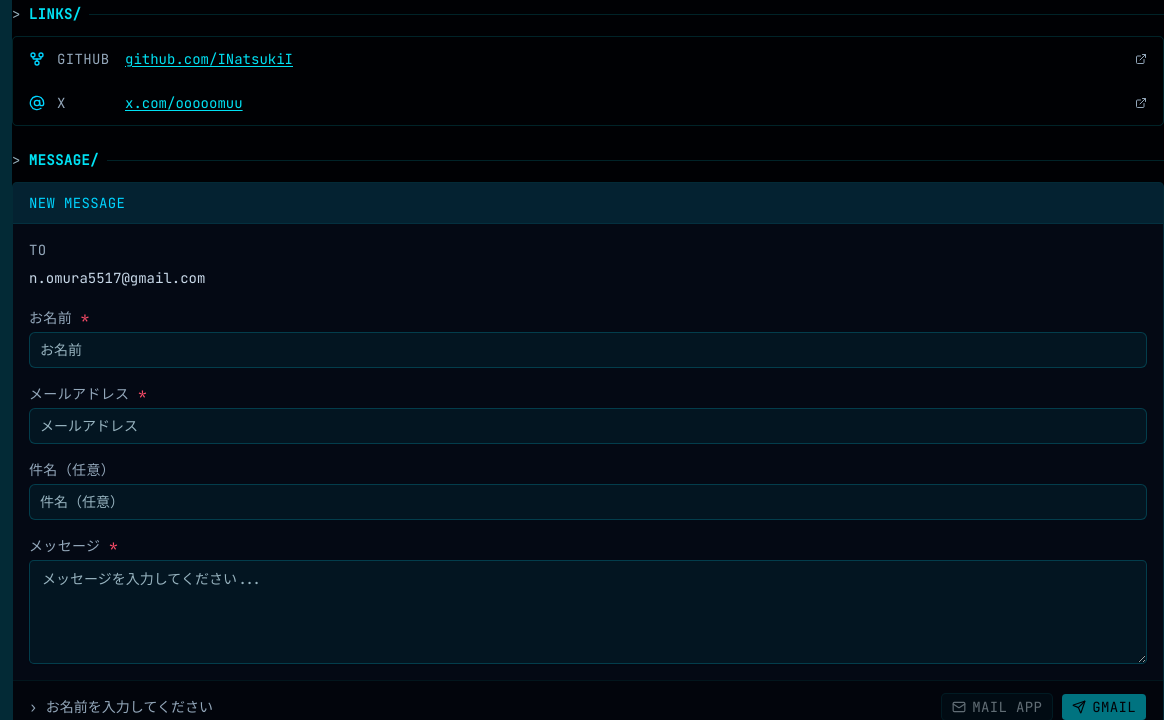
it: WinContact › 送信後のフィードバック › GMAIL 押下でポップアップがブロックされた場合エラーメッセージが表示される
Type "Taro" into the field with placeholder "お名前" at x=588, y=350, box [29, 332, 1147, 368]
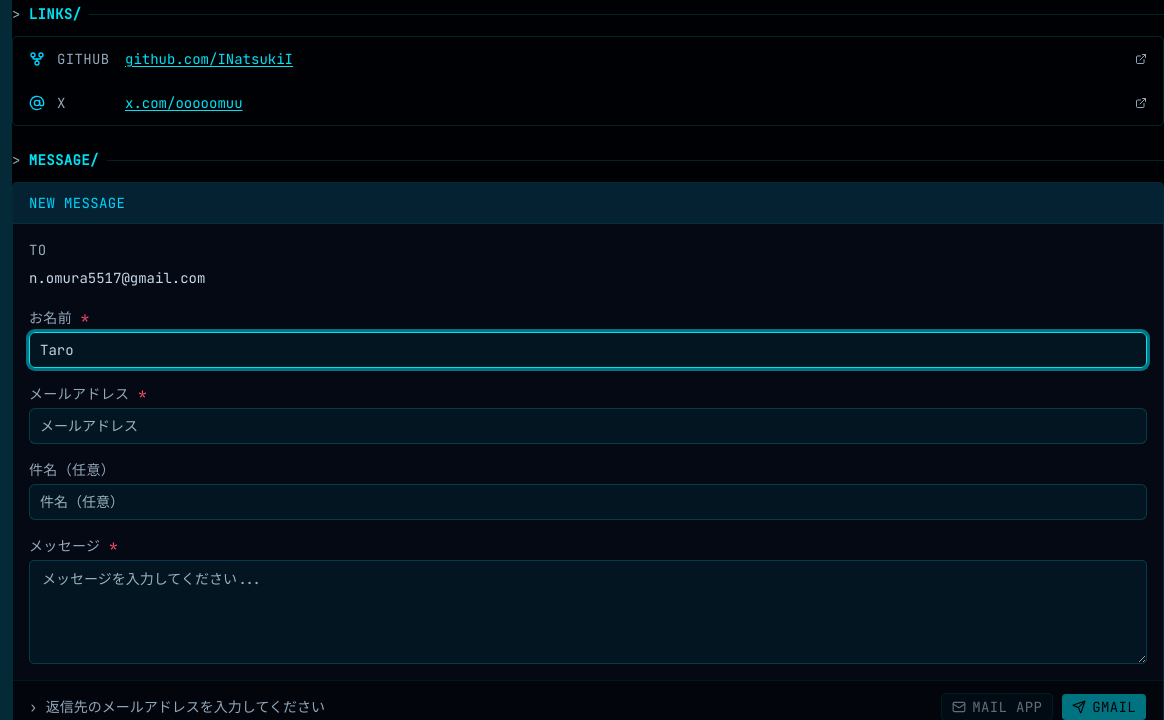
Type "taro@example.com" into the field with placeholder "メールアドレス" at x=588, y=426, box [29, 408, 1147, 444]
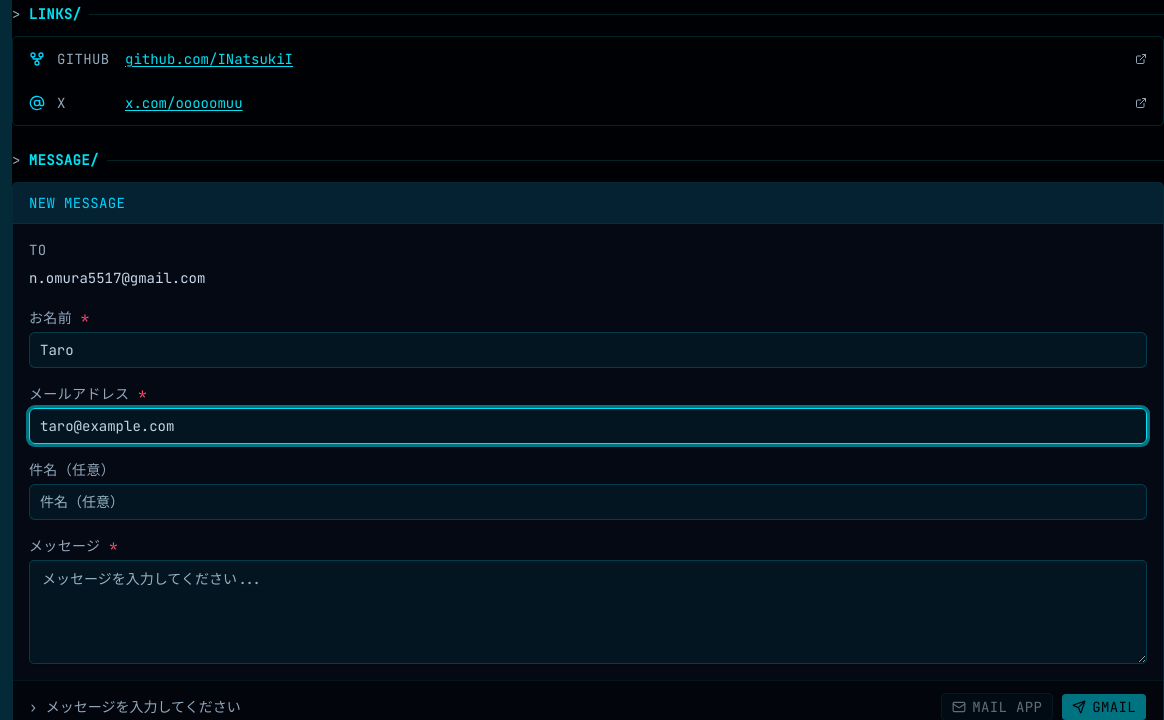
Press Tab
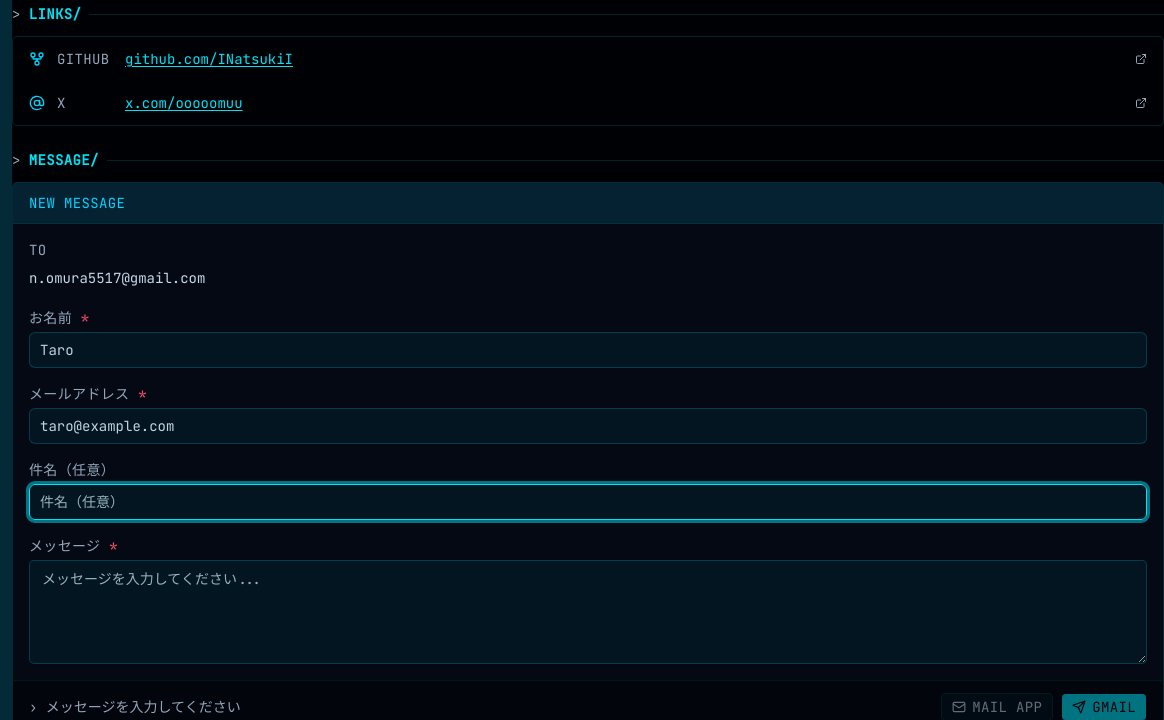
Type "Hello!" into the text box with placeholder "メッセージを入力してください..." at x=588, y=612, box [29, 560, 1147, 664]
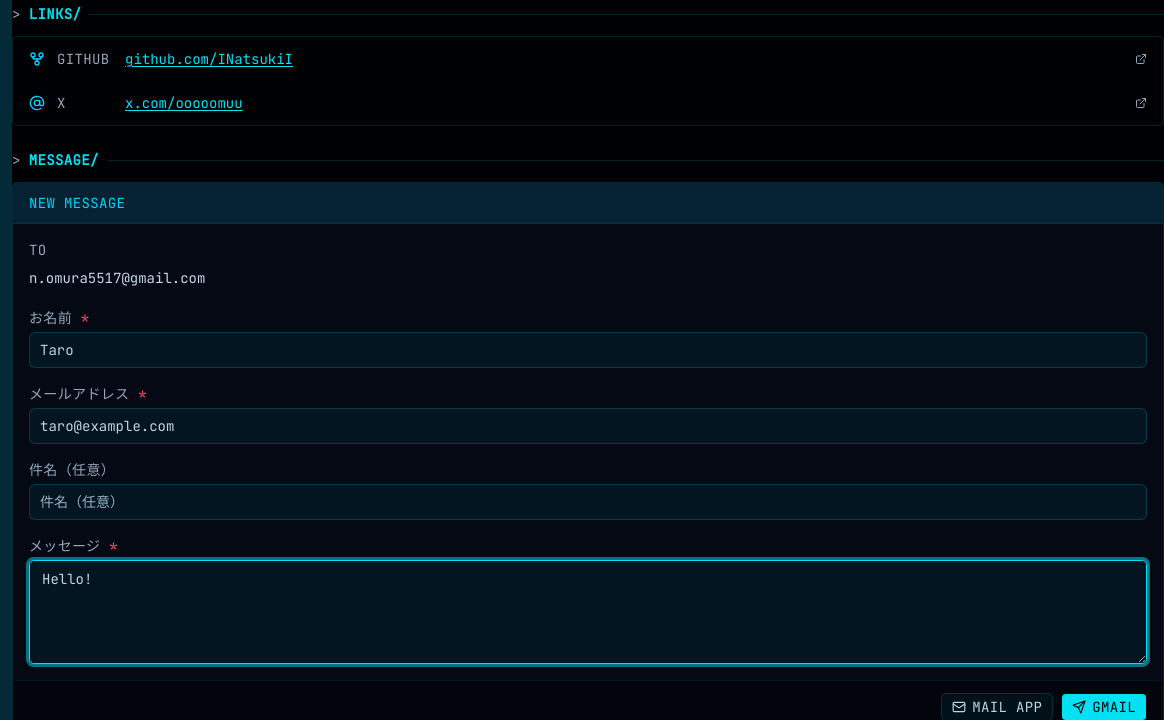
Click the button "GMAIL" at x=1104, y=707, box [1061, 693, 1147, 719]
(page scrolled)
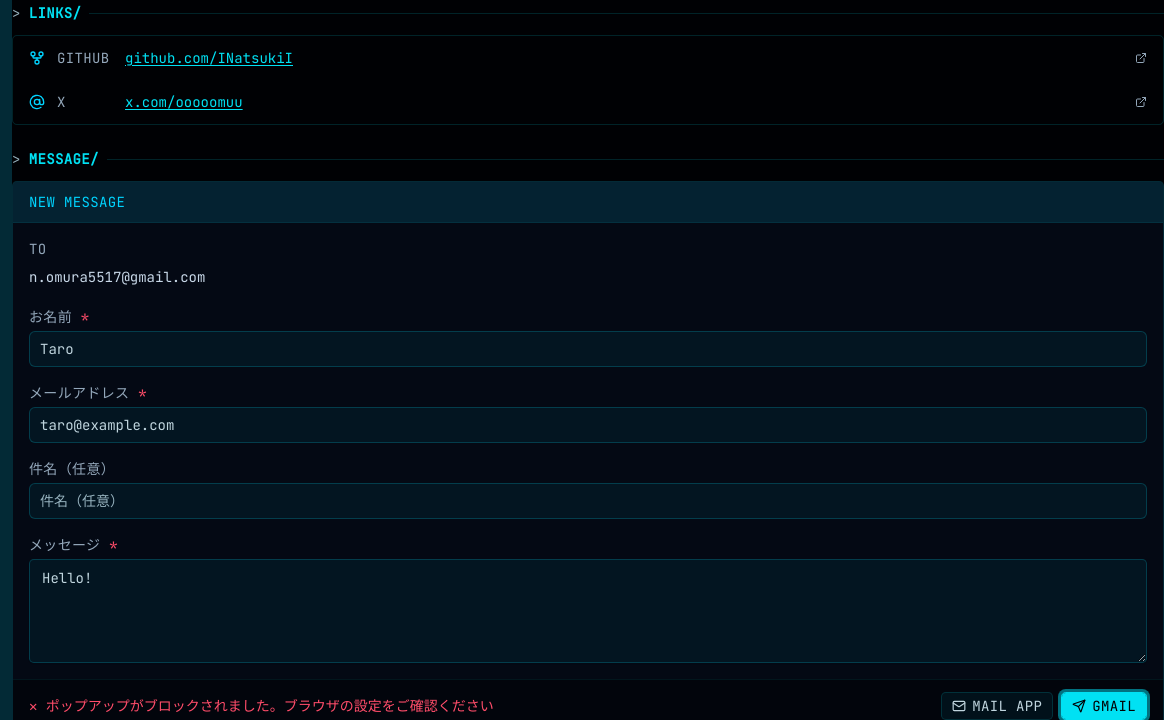
Expected: the message shows "ポップアップがブロックされました", [29, 697, 494, 715]
